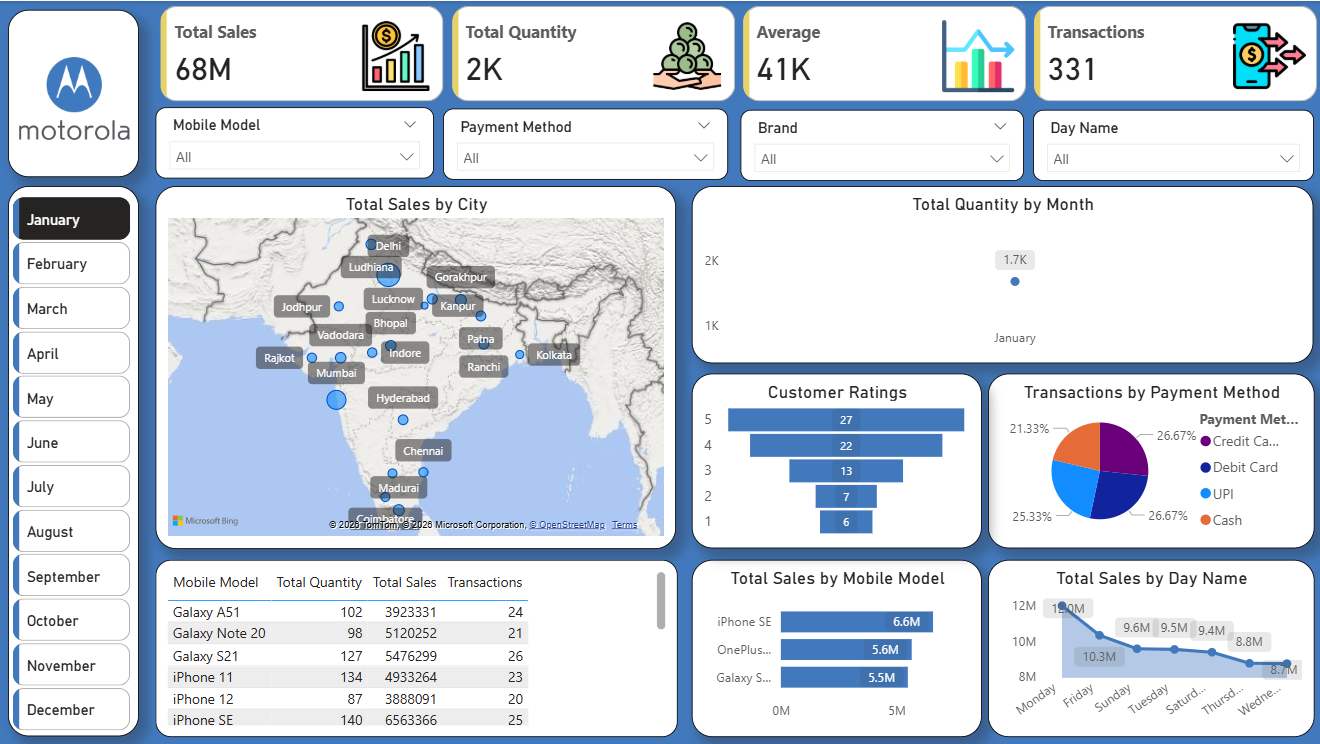

What the dashboard file says about the page in this screenshot:
{"tool":"powerbi","page":{"name":"Page 1","canvas":[1280,720],"ordinal":0},"visuals":[{"type":"shape","box":[10,8.8,126.2,161.2],"z":0},{"type":"image","box":[16.2,17.5,116.2,152.5],"z":1000},{"type":"shape","box":[10,178.8,126.2,531.2],"z":2000},{"type":"advancedSlicerVisual","fields":{"Values":["sales data.Date.Variation.Date Hierarchy.Month"]},"box":[10,185,123.8,535],"z":3000},{"type":"cardVisual","fields":{"Data":["sales data.Total Sales","sales data.Total Quantity","sales data.Average","sales data.Transactions"]},"box":[152.5,0,1126.2,102.5],"z":4000},{"type":"map","fields":{"Category":["sales data.City"],"Size":["sales data.Total Sales"]},"box":[152.5,178.8,502.5,350],"z":5000},{"type":"lineChart","fields":{"Category":["sales data.Date.Variation.Date Hierarchy.Month","sales data.Date.Variation.Date Hierarchy.Day"],"Y":["sales data.Total Quantity"]},"box":[670,178.8,600,171.2],"z":6000},{"type":"clusteredBarChart","fields":{"Category":["sales data.Mobile Model"],"Y":["sales data.Total Sales"]},"box":[670,538.8,280,171.2],"z":7000},{"type":"pieChart","fields":{"Y":["sales data.Transactions"],"Category":["sales data.Payment Method"]},"box":[955,360,315,168.8],"z":8000},{"type":"funnel","title":"Customer Ratings ","fields":{"Category":["sales data.Customer Ratings"],"Y":["CountNonNull(sales data.Customer Ratings)"]},"box":[670,360,280,168.8],"z":9000},{"type":"tableEx","fields":{"Values":["sales data.Mobile Model","sales data.Total Quantity","sales data.Total Sales","sales data.Transactions"]},"box":[152.5,538.8,503.8,171.2],"z":10000},{"type":"slicer","fields":{"Values":["sales data.Mobile Model"]},"box":[152.5,102.5,268.8,68.8],"z":11000},{"type":"slicer","fields":{"Values":["sales data.Payment Method"]},"box":[430,103.8,275,68.8],"z":12000},{"type":"slicer","fields":{"Values":["sales data.Brand"]},"box":[716.2,105,273.8,68.8],"z":13000},{"type":"slicer","fields":{"Values":["sales data.Day Name"]},"box":[998.8,105,271.2,68.8],"z":14000},{"type":"areaChart","fields":{"Category":["sales data.Day Name"],"Y":["sales data.Total Sales"]},"box":[955,539,315,171],"z":15000}]}

Visuals, with their boxes in screenshot pixels (x1, y1, x2, y2), scaled from the page's 1280x720 canvas onto the 1320x744 screenshot:
shape: x1=10 y1=9 x2=140 y2=176
image: x1=17 y1=18 x2=137 y2=176
shape: x1=10 y1=185 x2=140 y2=734
advancedSlicerVisual - sales data.Date.Variation.Date Hierarchy.Month: x1=10 y1=191 x2=138 y2=743
cardVisual - sales data.Total Sales x sales data.Total Quantity: x1=157 y1=0 x2=1319 y2=106
map - sales data.City x sales data.Total Sales: x1=157 y1=185 x2=675 y2=546
lineChart - sales data.Date.Variation.Date Hierarchy.Month x sales data.Date.Variation.Date Hierarchy.Day: x1=691 y1=185 x2=1310 y2=362
clusteredBarChart - sales data.Mobile Model x sales data.Total Sales: x1=691 y1=557 x2=980 y2=734
pieChart - sales data.Transactions x sales data.Payment Method: x1=985 y1=372 x2=1310 y2=546
"Customer Ratings " funnel: x1=691 y1=372 x2=980 y2=546
tableEx - sales data.Mobile Model x sales data.Total Quantity: x1=157 y1=557 x2=677 y2=734
slicer - sales data.Mobile Model: x1=157 y1=106 x2=434 y2=177
slicer - sales data.Payment Method: x1=443 y1=107 x2=727 y2=178
slicer - sales data.Brand: x1=739 y1=109 x2=1021 y2=180
slicer - sales data.Day Name: x1=1030 y1=109 x2=1310 y2=180
areaChart - sales data.Day Name x sales data.Total Sales: x1=985 y1=557 x2=1310 y2=734
